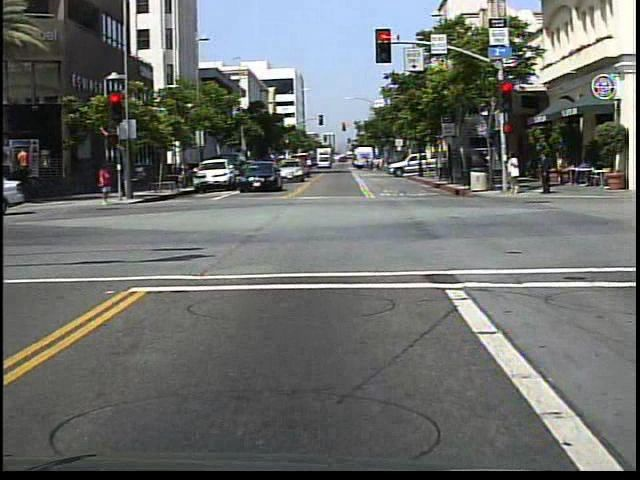person: (534, 147, 554, 196), (505, 149, 522, 198), (99, 162, 117, 208)
